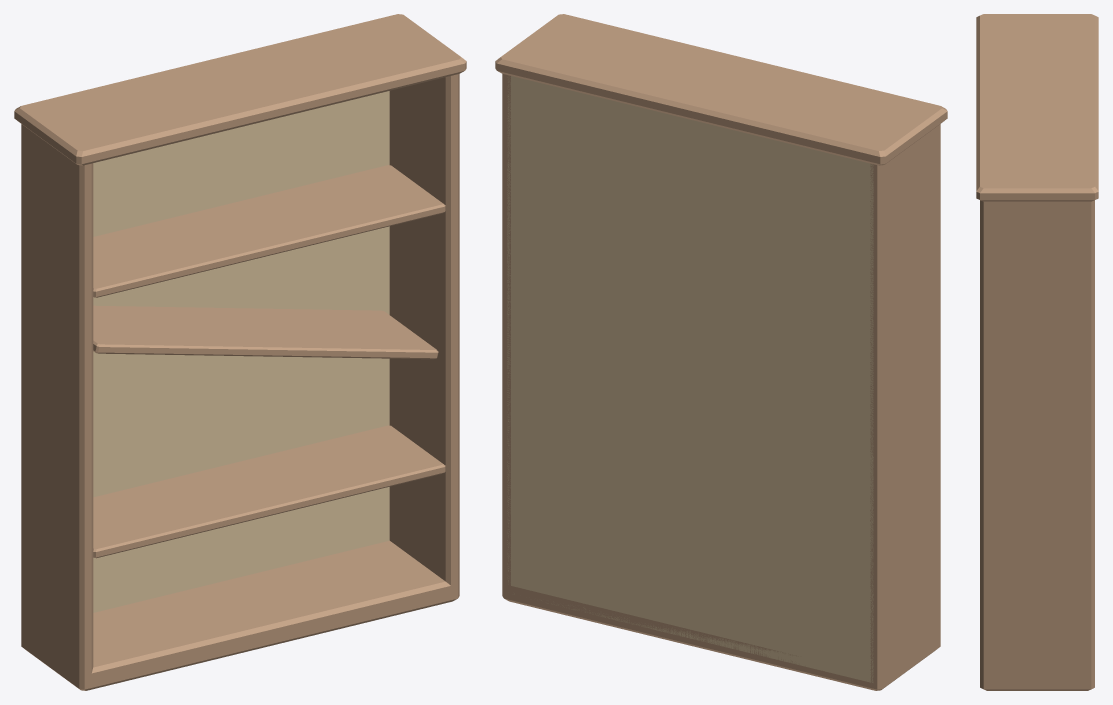
The model's file is lab_bookcase_broken.glb.
The picture shows the model from 3 angles, left to right: view 1: azimuth 30°, elevation 25°; view 2: azimuth 150°, elevation 25°; view 3: azimuth 270°, elevation 25°; orthographic projection. The views are drawn at different scales.
Parts seen in each view (by area): view 1: lab_bookcase_broken; view 2: lab_bookcase_broken; view 3: lab_bookcase_broken.
Boxes of the visible parts, x1,y1,x2,y2 form: lab_bookcase_broken: [14, 14, 466, 690]; lab_bookcase_broken: [495, 14, 947, 690]; lab_bookcase_broken: [976, 14, 1098, 690].
Size of the model in its own units: 2.26 by 3 by 0.66.
